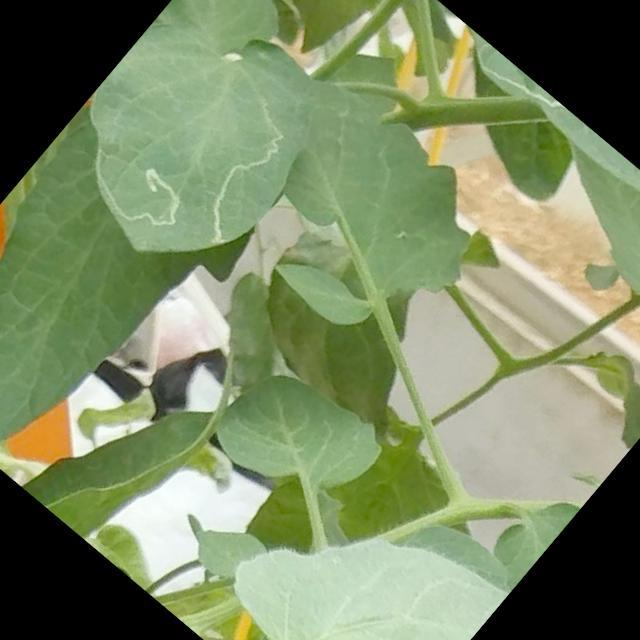Tomato target spot leaf: (32, 0, 358, 303)
